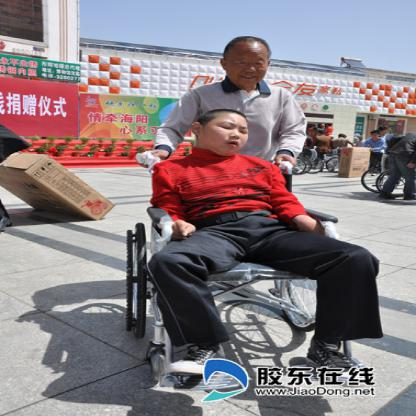wheelchair: (127, 110, 382, 394)
